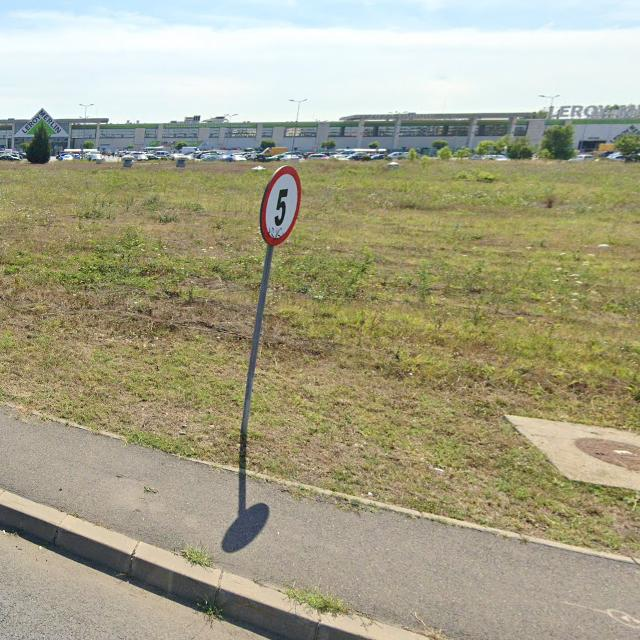forb_speed_over_5: (260, 166, 302, 246)
